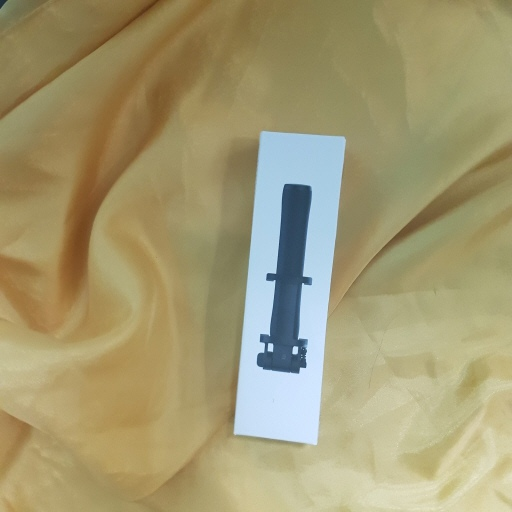Paper_0: (228, 124, 353, 462)
